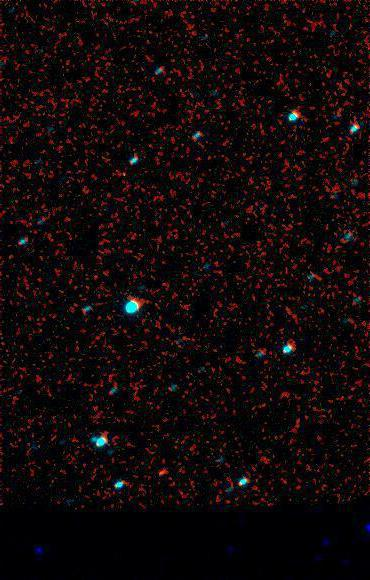star: (148, 457, 178, 487)
